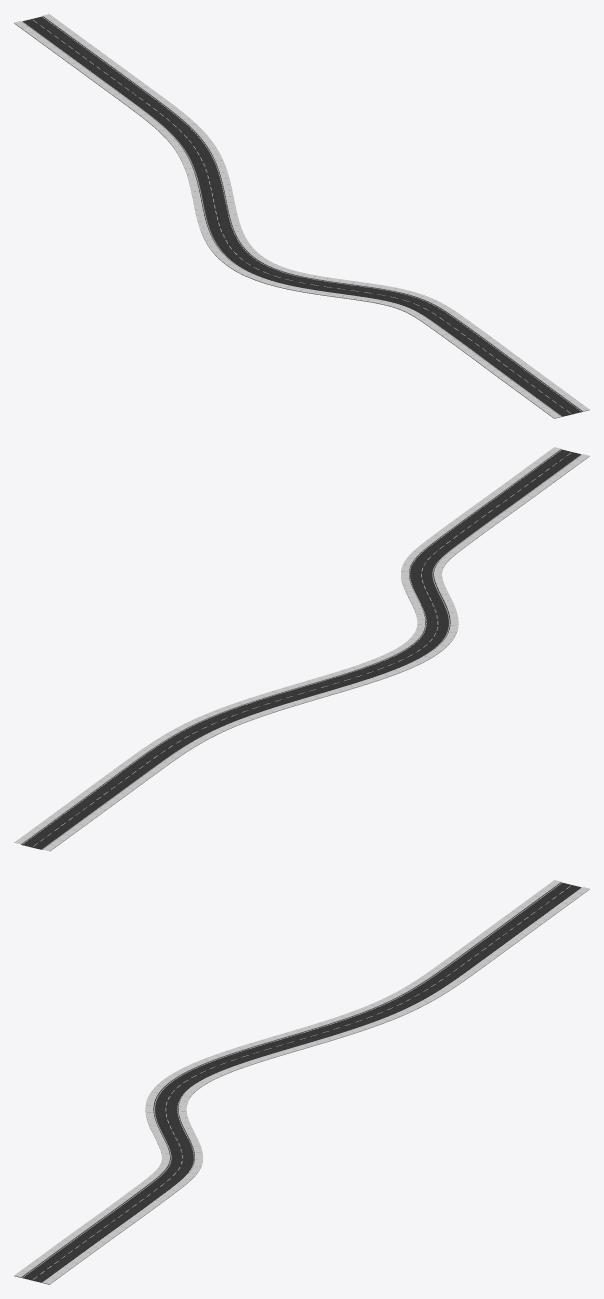
The model's file is Road-1.fbx.
3 renders of one model, top to bottom at view 1: azimuth 30°, elevation 25°; view 2: azimuth 150°, elevation 25°; view 3: azimuth 330°, elevation 25°, orthographic.
Parts seen in each view (by area): view 1: Road.001, Road; view 2: Road.001, Road; view 3: Road.001, Road.
Boxes of the visible parts, x1=… form: Road.001: x1=22, y1=16, x2=582, y2=416; Road: x1=14, y1=14, x2=589, y2=418; Road.001: x1=21, y1=449, x2=581, y2=849; Road: x1=14, y1=447, x2=589, y2=851; Road.001: x1=21, y1=882, x2=581, y2=1282; Road: x1=14, y1=880, x2=589, y2=1284.
Bounding box in the file's own units: 613 × 2.6 × 4594.
Materials: 1 (1 with a texture image).
